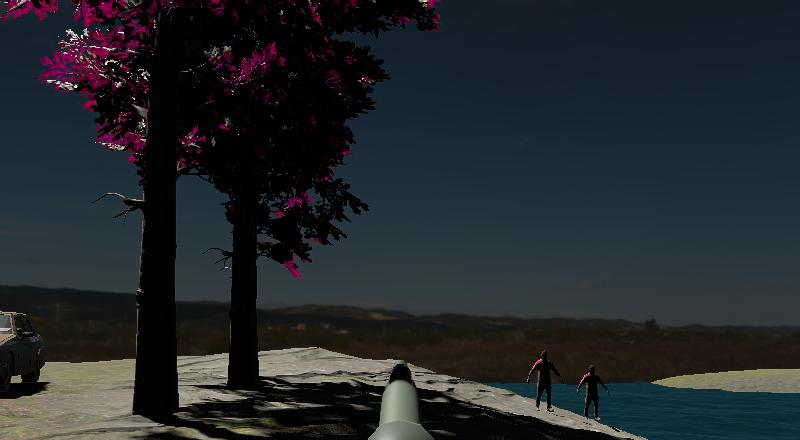car: (0, 306, 47, 400)
